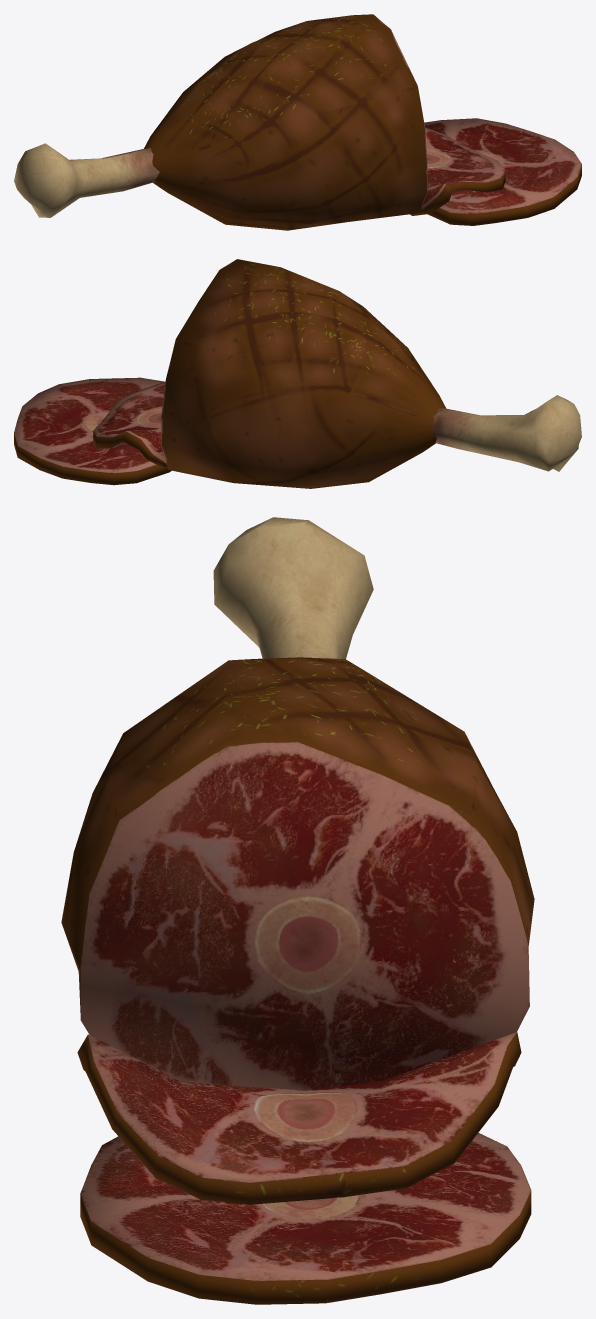
File: ham_baked.glb
3 views of the same model, one above another, from view 1: azimuth 30°, elevation 25°; view 2: azimuth 150°, elevation 25°; view 3: azimuth 270°, elevation 25° (orthographic). The views are drawn at different scales.
Parts seen in each view (by area): view 1: defaultMaterial; view 2: defaultMaterial; view 3: defaultMaterial.
Boxes of the visible parts, bbox=[...] form: defaultMaterial: bbox=[14, 14, 581, 230]; defaultMaterial: bbox=[14, 259, 581, 488]; defaultMaterial: bbox=[61, 517, 534, 1304].
Size of the model in its own units: 2 by 0.6649 by 0.7554.
Materials: 1 (1 with a texture image).
